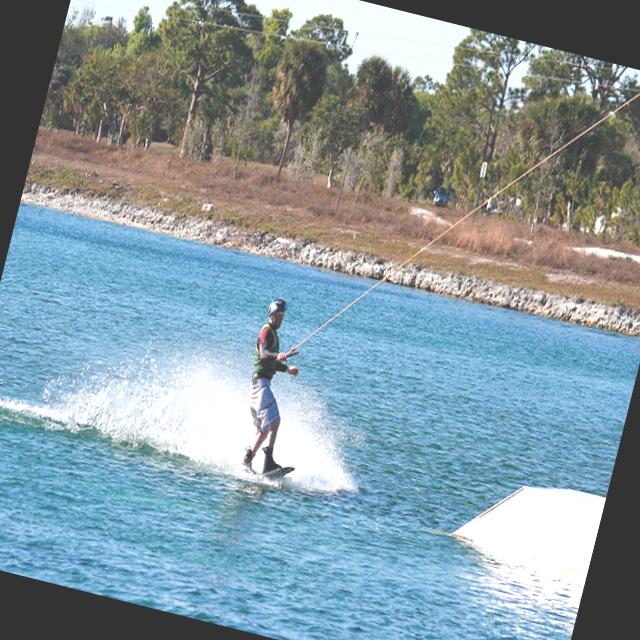Vehicle: (432, 184, 457, 210)
